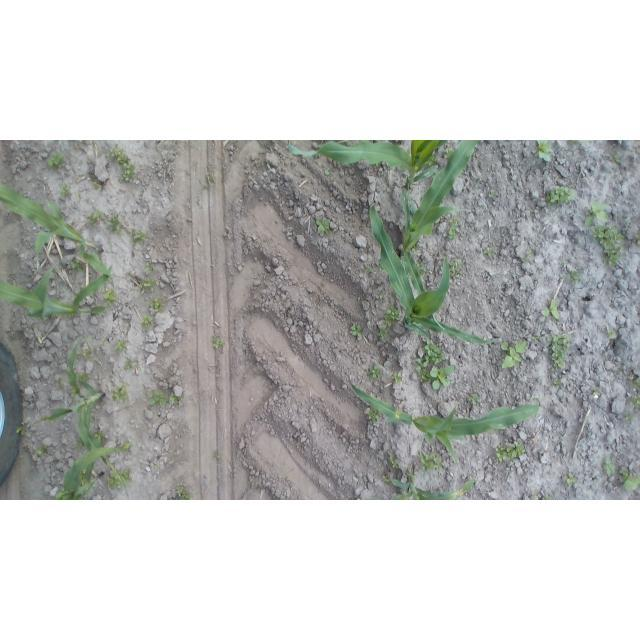Maize: (370, 202, 497, 346), (347, 375, 539, 465), (401, 140, 482, 338), (39, 337, 130, 494), (287, 141, 450, 216), (1, 180, 114, 286), (0, 265, 112, 322), (52, 448, 120, 499), (355, 476, 475, 500)
Weeds: (592, 224, 624, 266), (106, 143, 134, 182), (548, 332, 570, 369), (502, 340, 527, 369), (422, 338, 446, 365), (546, 186, 576, 207), (493, 443, 525, 462), (430, 366, 454, 390), (584, 202, 608, 226), (619, 469, 640, 491), (419, 452, 442, 472), (412, 358, 430, 383), (536, 140, 555, 162), (541, 300, 560, 320), (382, 306, 400, 327), (129, 228, 148, 246), (44, 152, 64, 169), (112, 383, 128, 404), (106, 214, 122, 235), (146, 391, 167, 406), (148, 296, 165, 314), (108, 471, 123, 490), (448, 258, 462, 278), (139, 278, 155, 295), (316, 219, 332, 236), (103, 288, 118, 306), (448, 217, 460, 239), (414, 260, 429, 277), (200, 172, 216, 187), (366, 365, 382, 380), (603, 457, 615, 476), (565, 270, 581, 284), (367, 406, 379, 424), (86, 211, 102, 224), (177, 486, 191, 500), (139, 315, 153, 328), (350, 323, 362, 338), (389, 453, 400, 469), (58, 183, 70, 197), (121, 468, 132, 483), (76, 372, 91, 383), (378, 327, 391, 339), (213, 337, 226, 349), (36, 444, 49, 456), (70, 260, 83, 272), (115, 340, 128, 352), (424, 155, 436, 168), (169, 391, 180, 405), (567, 472, 578, 486), (94, 430, 106, 442), (391, 373, 403, 384), (407, 470, 418, 481), (484, 247, 495, 258), (77, 436, 85, 451), (146, 259, 154, 274), (631, 395, 640, 408), (625, 412, 635, 423), (468, 394, 478, 405), (606, 329, 617, 339), (444, 148, 454, 159), (80, 469, 86, 487), (628, 380, 640, 389), (123, 361, 133, 371), (121, 443, 132, 452), (611, 154, 621, 163), (82, 349, 91, 359), (554, 378, 563, 388), (16, 426, 25, 435), (71, 387, 78, 398), (377, 261, 384, 272), (382, 474, 390, 483), (413, 243, 422, 251), (531, 491, 539, 499), (635, 234, 640, 246), (542, 496, 554, 501), (570, 140, 585, 144), (57, 379, 64, 387), (526, 249, 533, 256), (325, 169, 332, 176), (365, 266, 372, 273), (94, 182, 102, 188), (68, 313, 75, 319), (490, 190, 495, 198), (37, 201, 43, 207), (75, 382, 81, 388), (593, 389, 599, 395), (522, 258, 529, 263), (532, 336, 540, 340), (76, 194, 82, 199), (189, 143, 195, 148), (376, 161, 381, 167), (101, 339, 107, 344), (311, 155, 316, 160), (217, 454, 223, 458), (379, 293, 383, 299), (154, 464, 159, 468), (630, 374, 634, 379), (560, 260, 564, 265), (536, 227, 540, 232), (390, 286, 394, 291)
